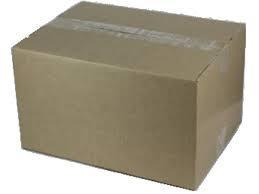box: (10, 1, 246, 191)
